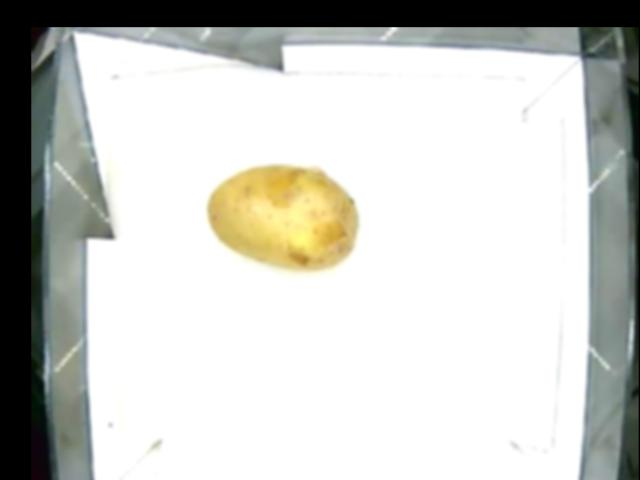Potato: (206, 161, 361, 273)
